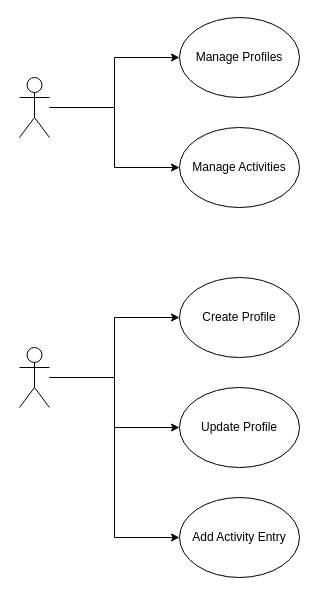
Image size: 317x595. Some labels were removed from this diagram. Here are the shapes that lost their labels. From the top down, the centre of each, then its label:
At point 34,107: "Admin".
At point 34,377: "Actor".
